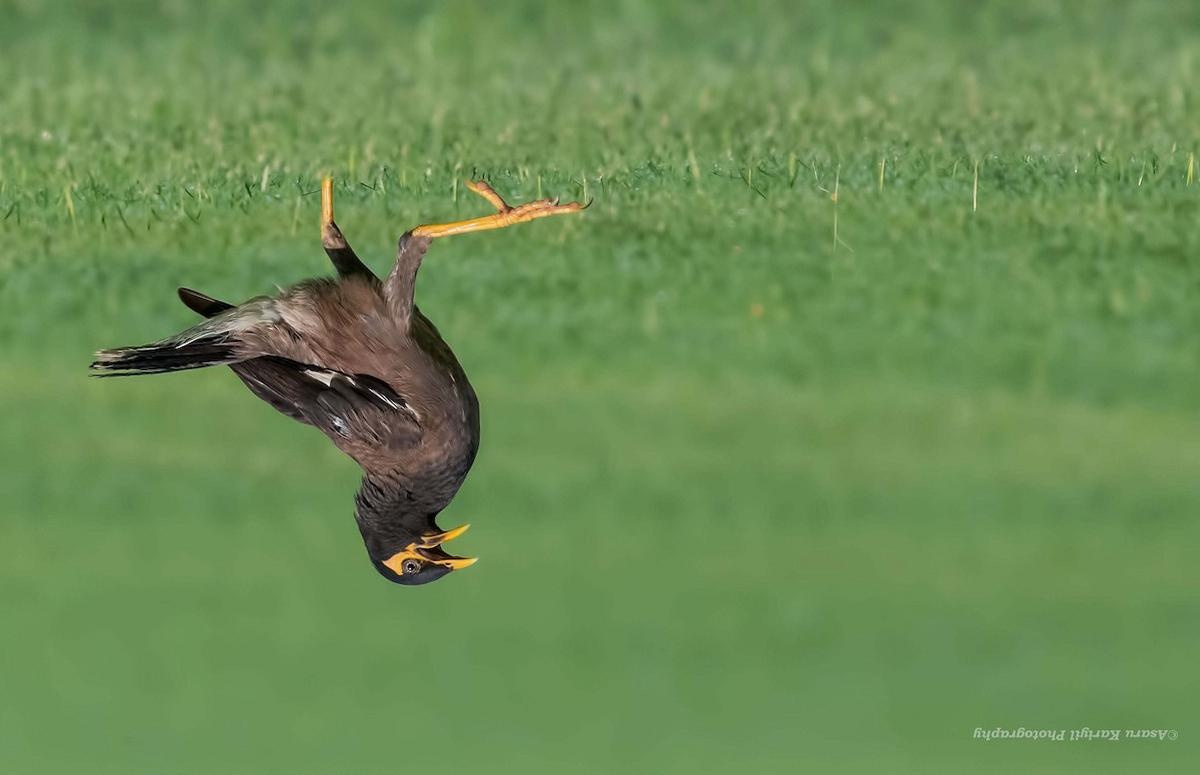myna: (171, 190, 537, 607)
